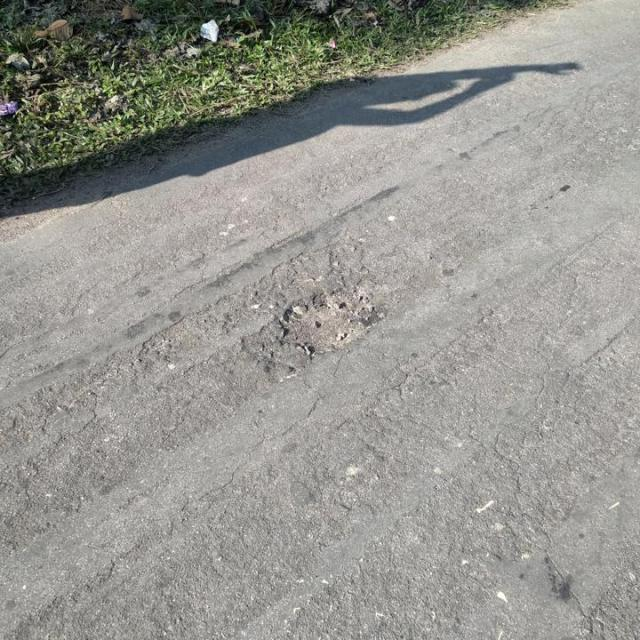Pothole: (276, 287, 376, 358)
